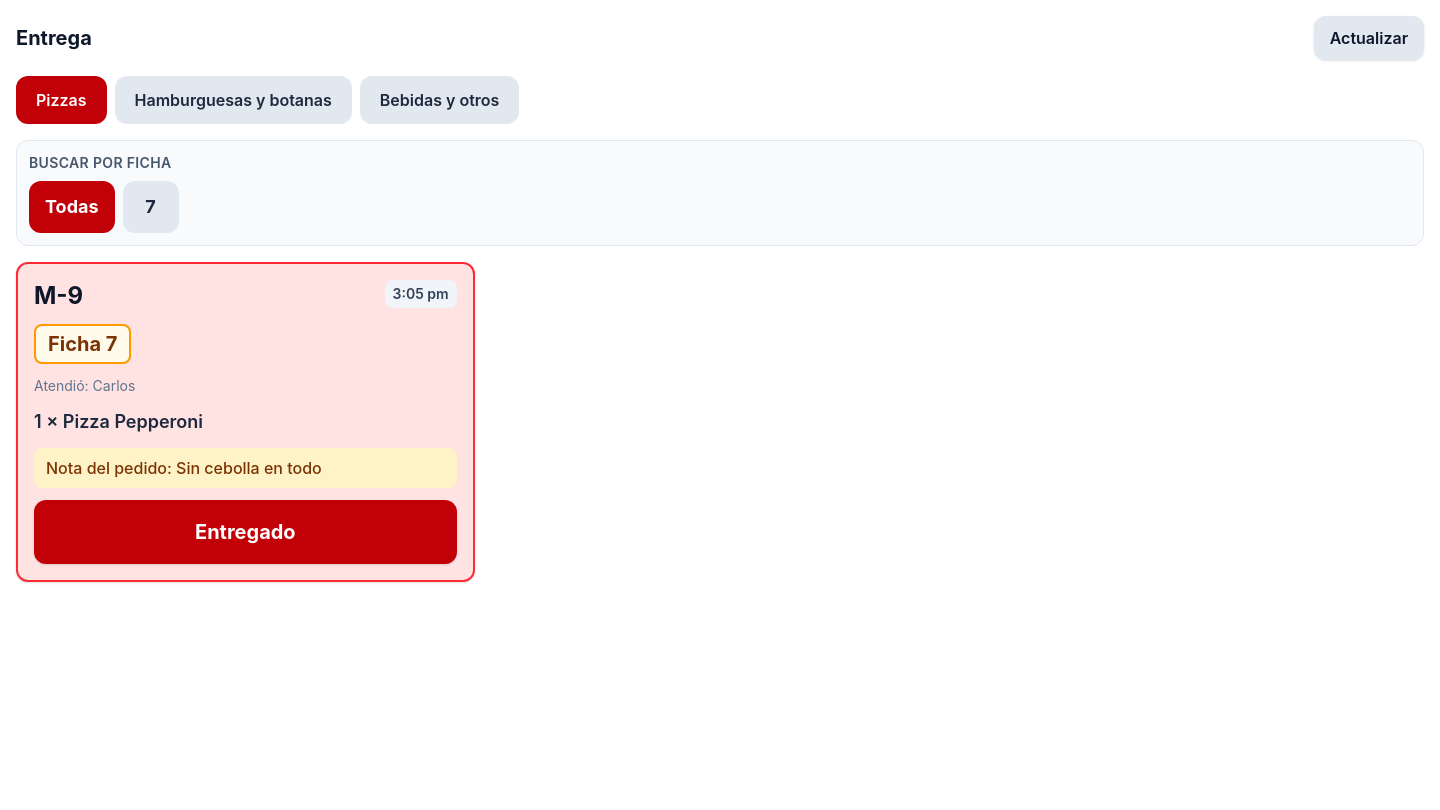
Test: DeliveryBoard › hides orders with nothing ready in the selected section
This screenshot has width=1440, height=810.
Expected: the heading "M-9" is shown, top-left (34, 280), bottom-right (83, 312)
Click the button "Hamburguesas y botanas" at (233,100), box top-left (115, 76), bottom-right (352, 124)
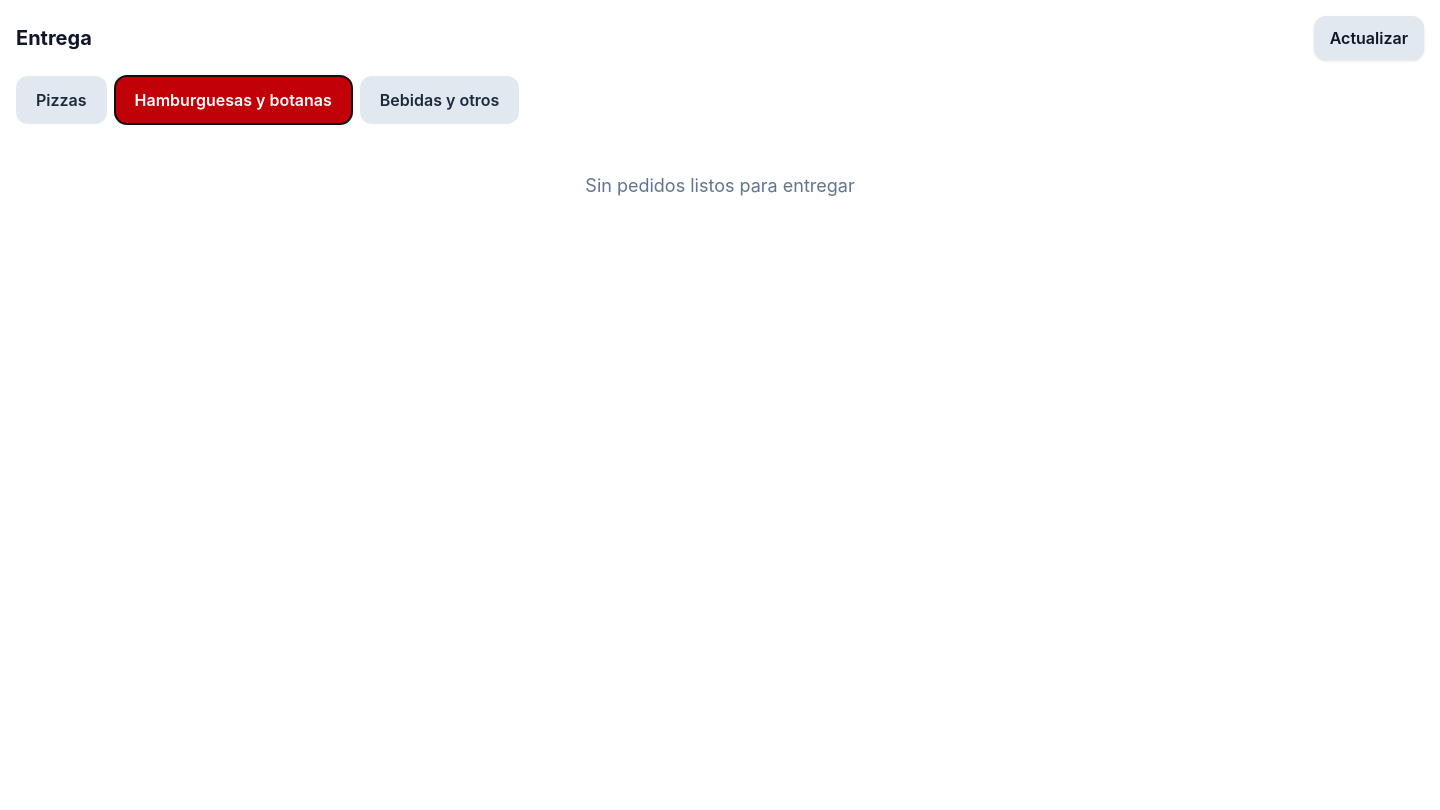
Now the heading "M-9" is gone
Now the text "Sin pedidos listos para entregar" is shown, box top-left (585, 175), bottom-right (855, 196)
